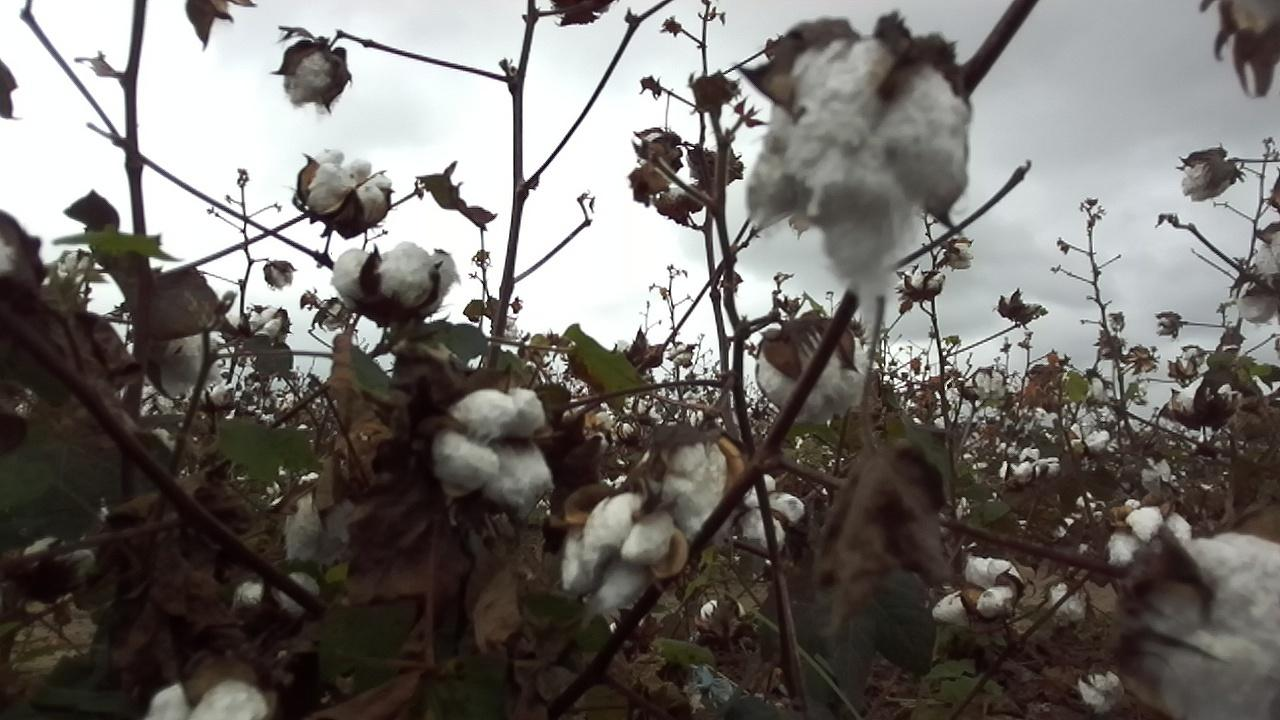cotton_ready: (744, 30, 972, 334), (1121, 534, 1280, 720), (439, 385, 552, 513), (561, 497, 677, 620), (758, 320, 869, 426), (333, 239, 462, 321), (641, 439, 730, 537), (286, 469, 367, 570), (297, 145, 389, 221), (234, 574, 320, 653), (932, 557, 1019, 620), (144, 680, 270, 720), (740, 474, 805, 550), (1107, 509, 1194, 565), (158, 330, 224, 394), (1240, 232, 1280, 323), (284, 49, 339, 110), (1174, 383, 1243, 424), (1076, 669, 1124, 716), (1182, 158, 1230, 201), (1052, 580, 1088, 623), (1234, 0, 1280, 33)
